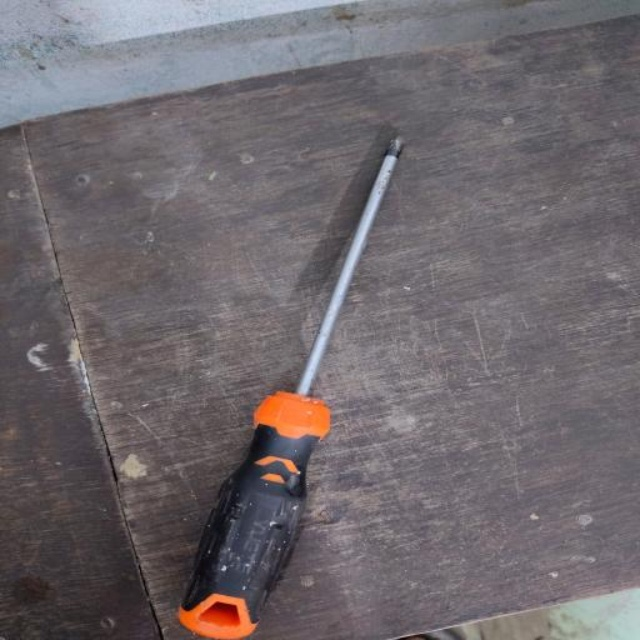screwdriver: (173, 128, 417, 640)
